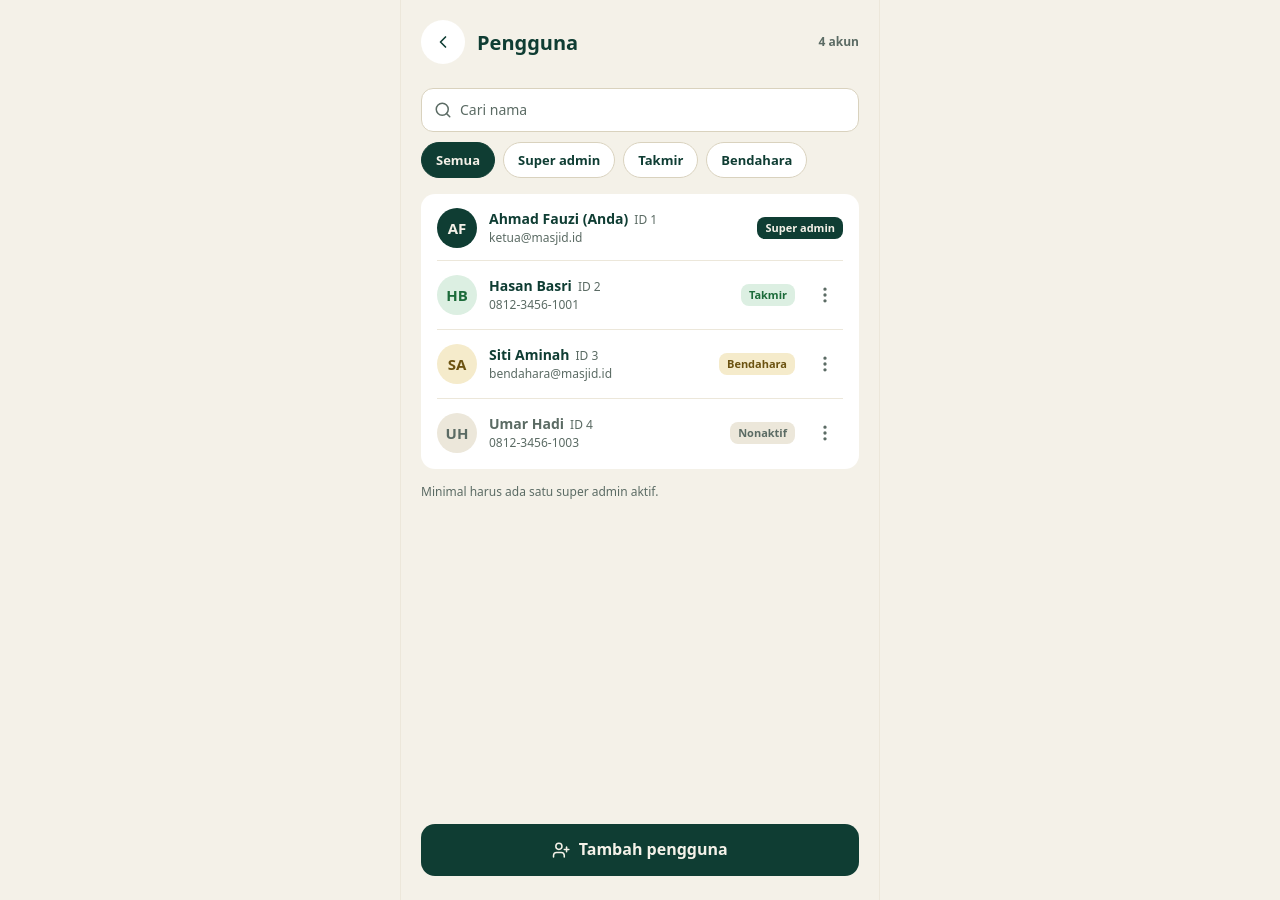
Test: UsersPage › changes a role from the row menu
Click the button named "Aksi untuk Hasan Basri". click: x=825, y=295
box: [807, 273, 843, 317]
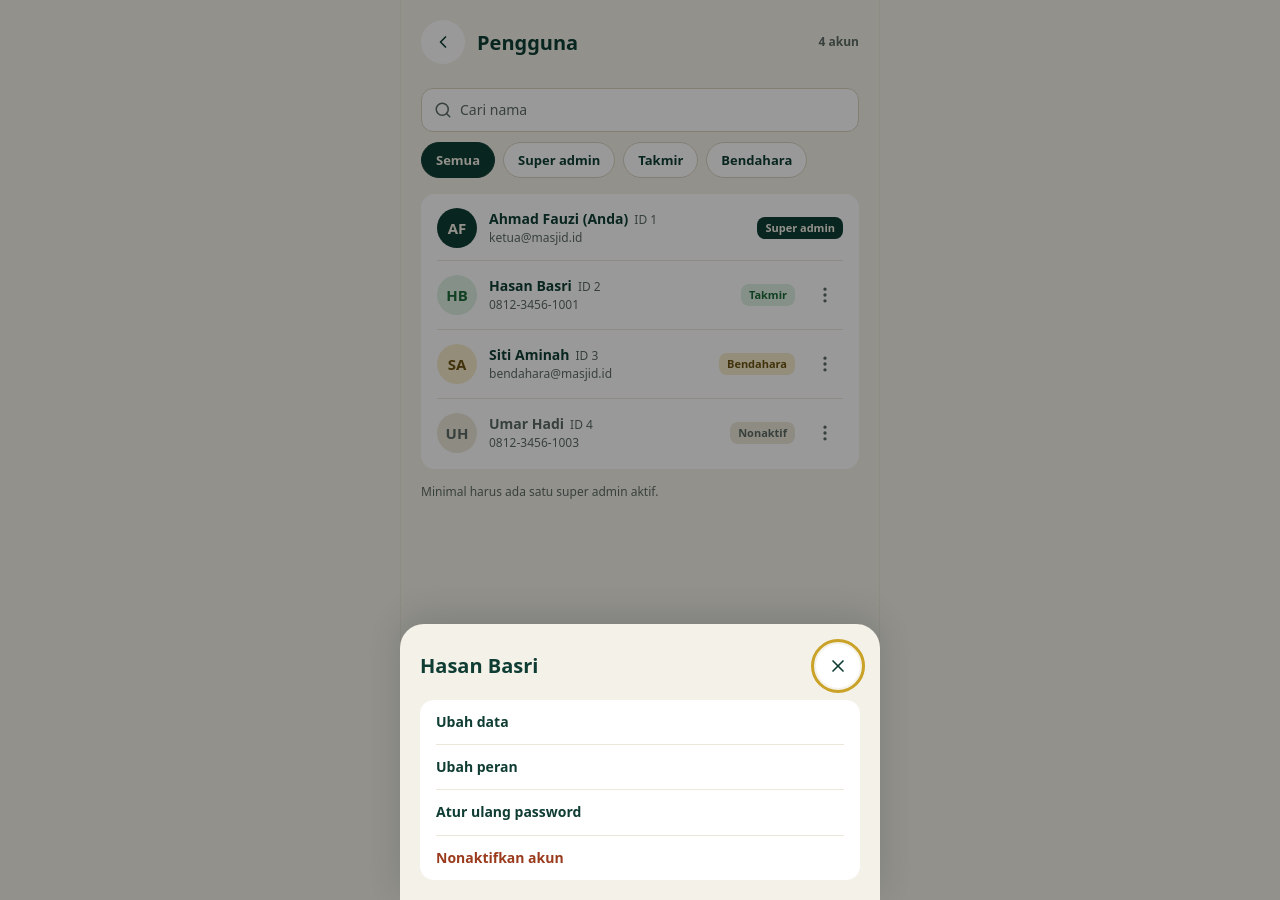
Click the button "Ubah peran". click: x=477, y=767
box: [436, 745, 844, 789]
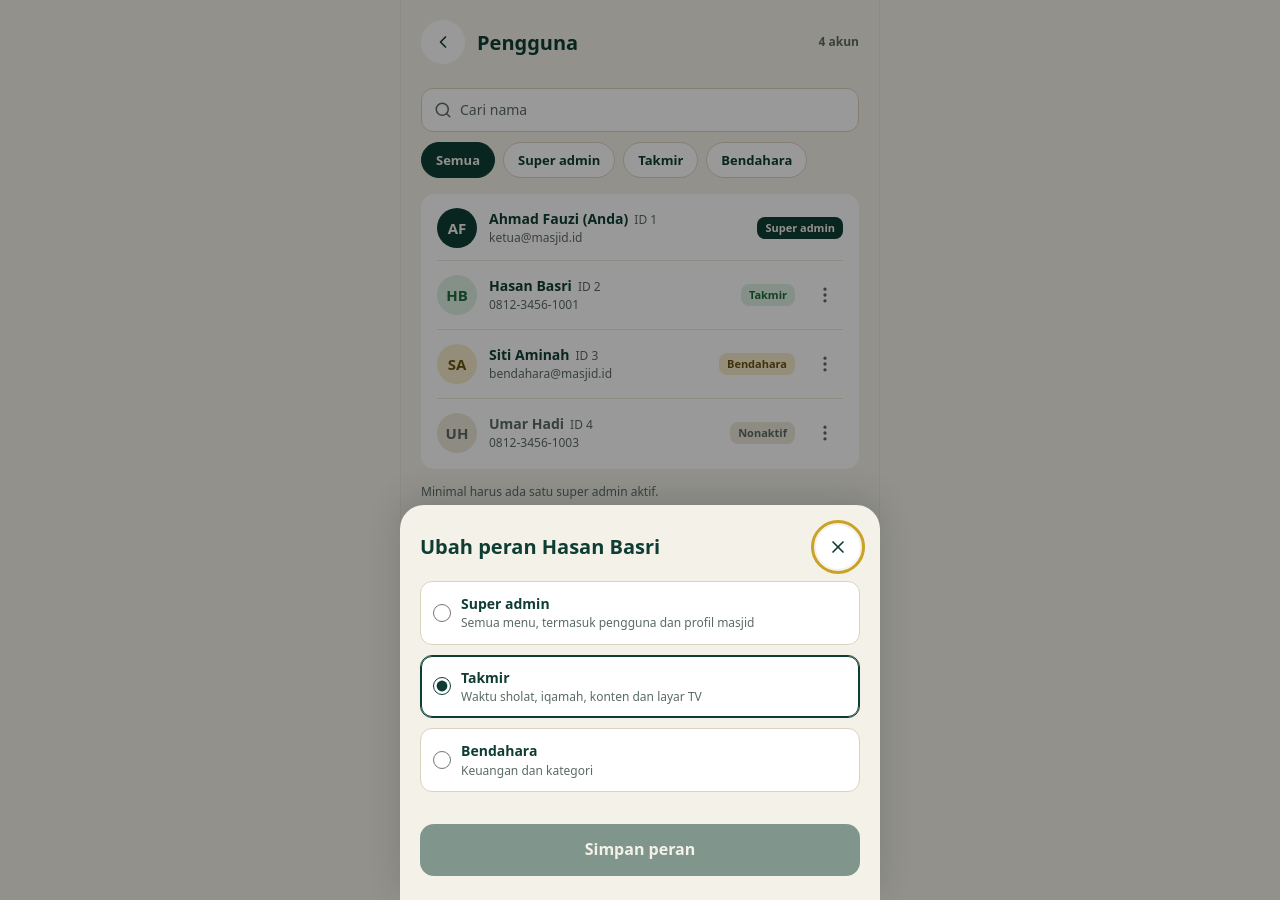
Click the radio button labelled "Bendahara Keuangan dan kategori". click: x=442, y=760
box: [433, 751, 451, 769]
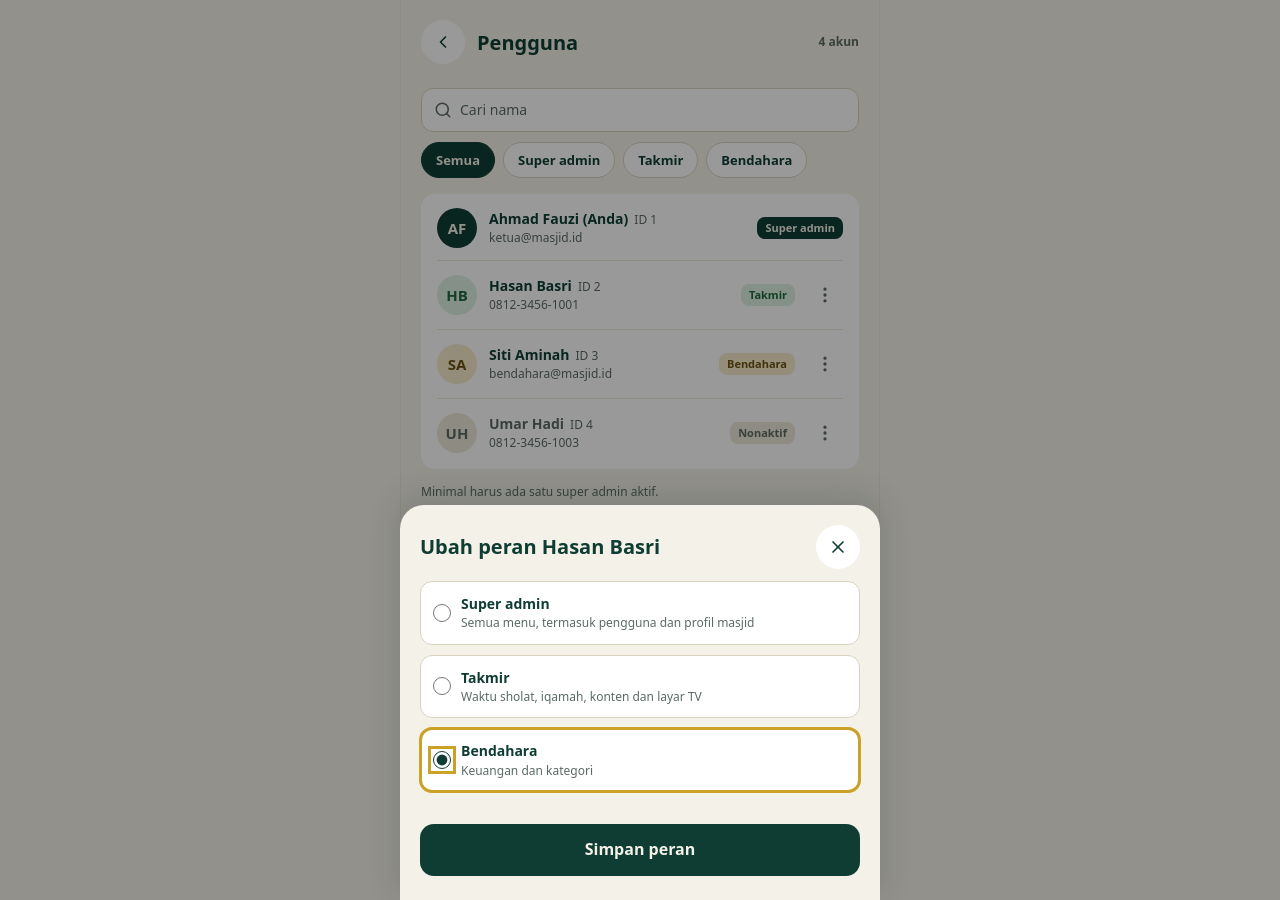
Click the button "Simpan peran". click: x=640, y=850
box: [420, 824, 860, 876]
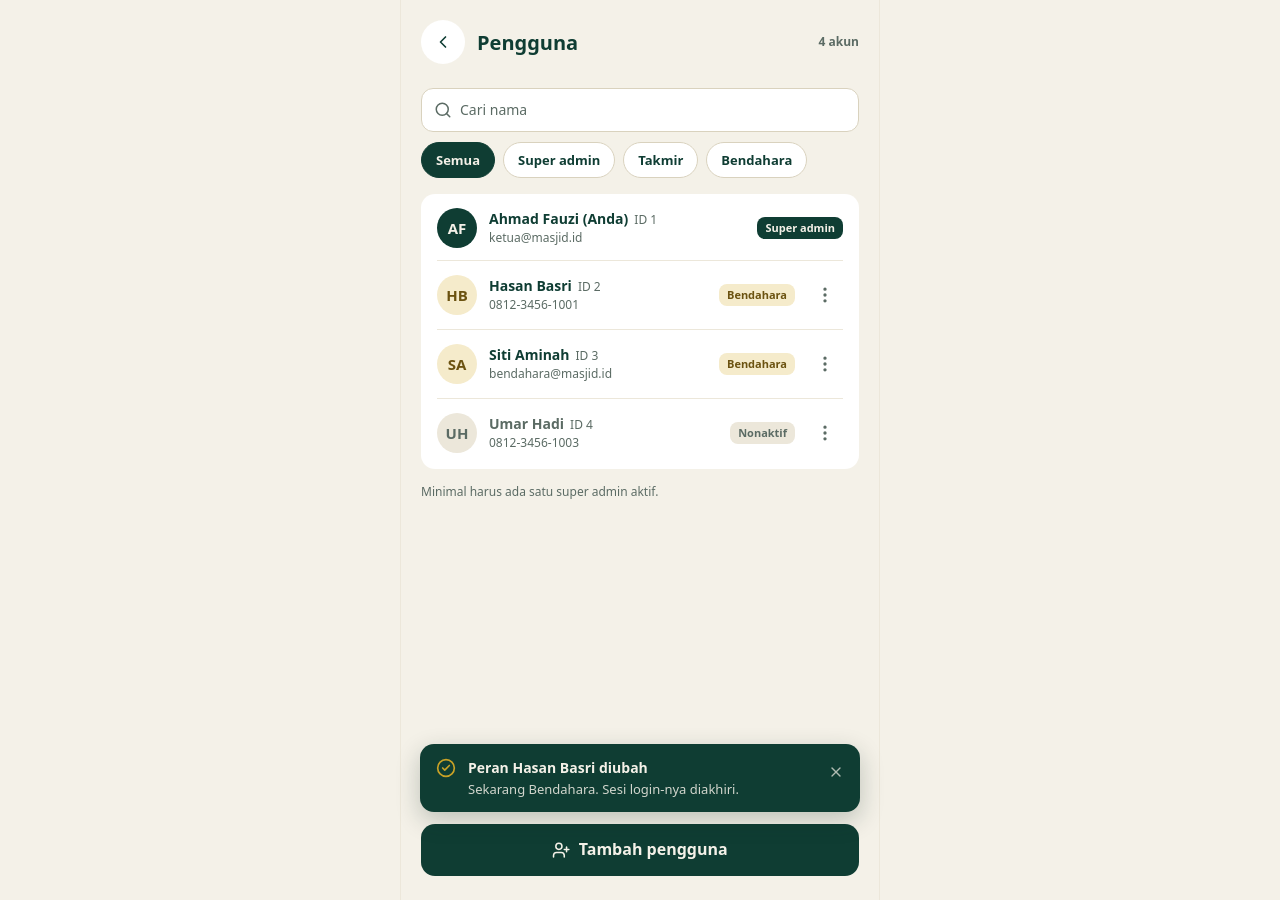
Check: the text "Bendahara" in the row of "HB" is shown, box [727, 287, 787, 302]
